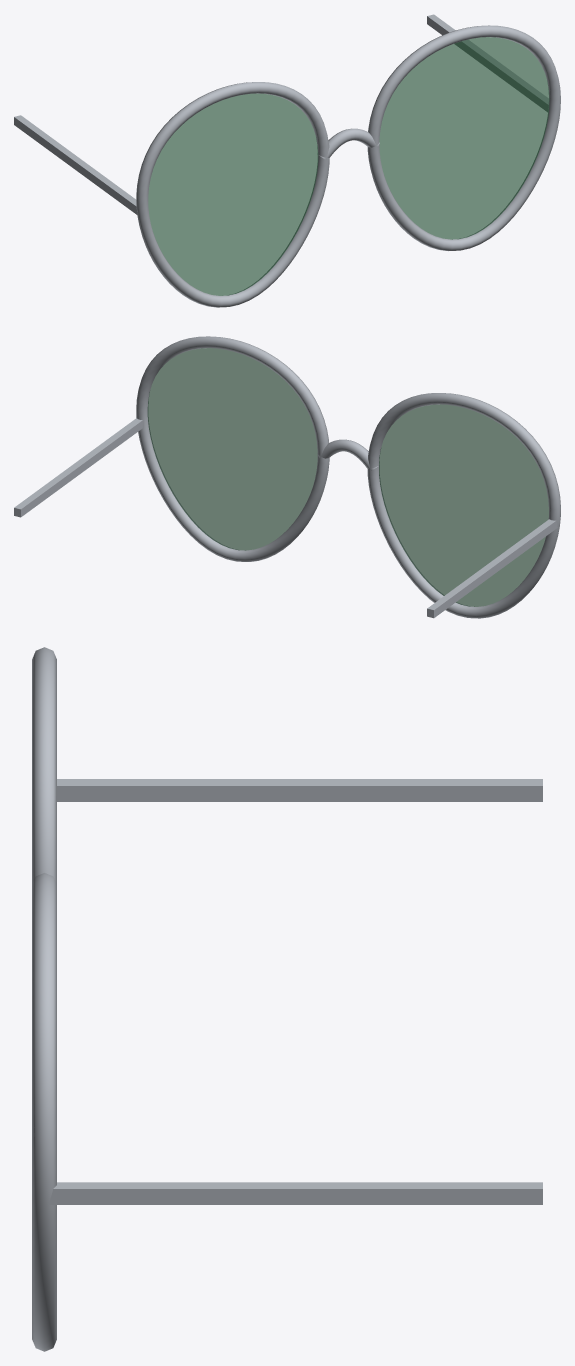
The model's file is aviator.glb.
3 views of the same model, one above another, from view 1: azimuth 30°, elevation 25°; view 2: azimuth 150°, elevation 25°; view 3: azimuth 270°, elevation 25° (orthographic). The views are drawn at different scales.
Visible parts, largest first — view 1: lens (×2), object 1, object 4, object 3, object 6, object 7; view 2: lens (×2), object 4, object 1, object 3, object 6, object 7; view 3: object 4, object 6, object 3, object 1.
Part boxes in pixels (x1=…): lens (×2): x1=148, y1=37, x2=549, y2=295; object 1: x1=136, y1=82, x2=329, y2=307; object 4: x1=367, y1=25, x2=560, y2=251; object 3: x1=14, y1=115, x2=137, y2=214; object 6: x1=427, y1=14, x2=548, y2=111; object 7: x1=319, y1=128, x2=379, y2=159; lens (×2): x1=147, y1=348, x2=548, y2=606; object 4: x1=136, y1=336, x2=329, y2=561; object 1: x1=367, y1=393, x2=560, y2=618; object 3: x1=427, y1=519, x2=557, y2=618; object 6: x1=14, y1=418, x2=142, y2=517; object 7: x1=317, y1=439, x2=379, y2=470; object 4: x1=32, y1=873, x2=56, y2=1351; object 6: x1=48, y1=1182, x2=542, y2=1204; object 3: x1=57, y1=779, x2=542, y2=801; object 1: x1=32, y1=647, x2=56, y2=884.
Size of the model in its own units: 2.75 by 1.37 by 1.43.
